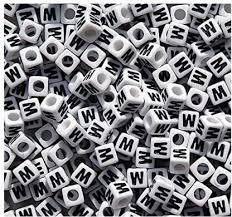cube: (41, 94, 70, 123), (115, 85, 143, 114), (105, 180, 133, 209), (148, 174, 175, 204), (83, 69, 111, 94), (44, 168, 70, 191), (170, 148, 190, 175), (95, 145, 119, 167)
